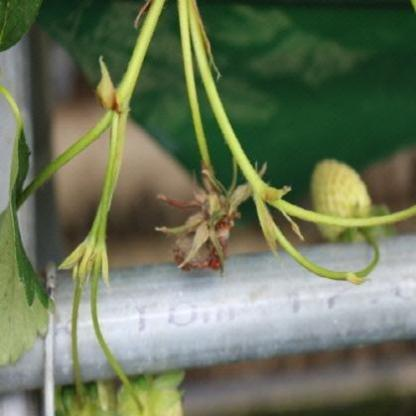Strawberry_Gray_Mold: (155, 161, 249, 278)
